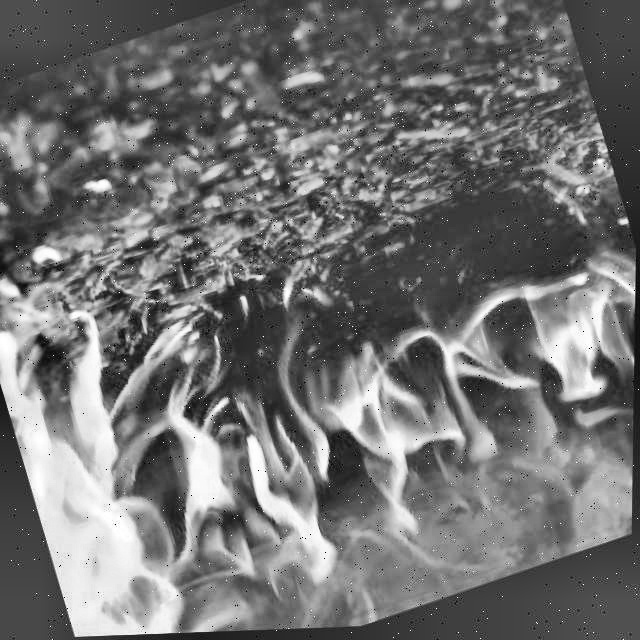Fire: (0, 119, 638, 640)
